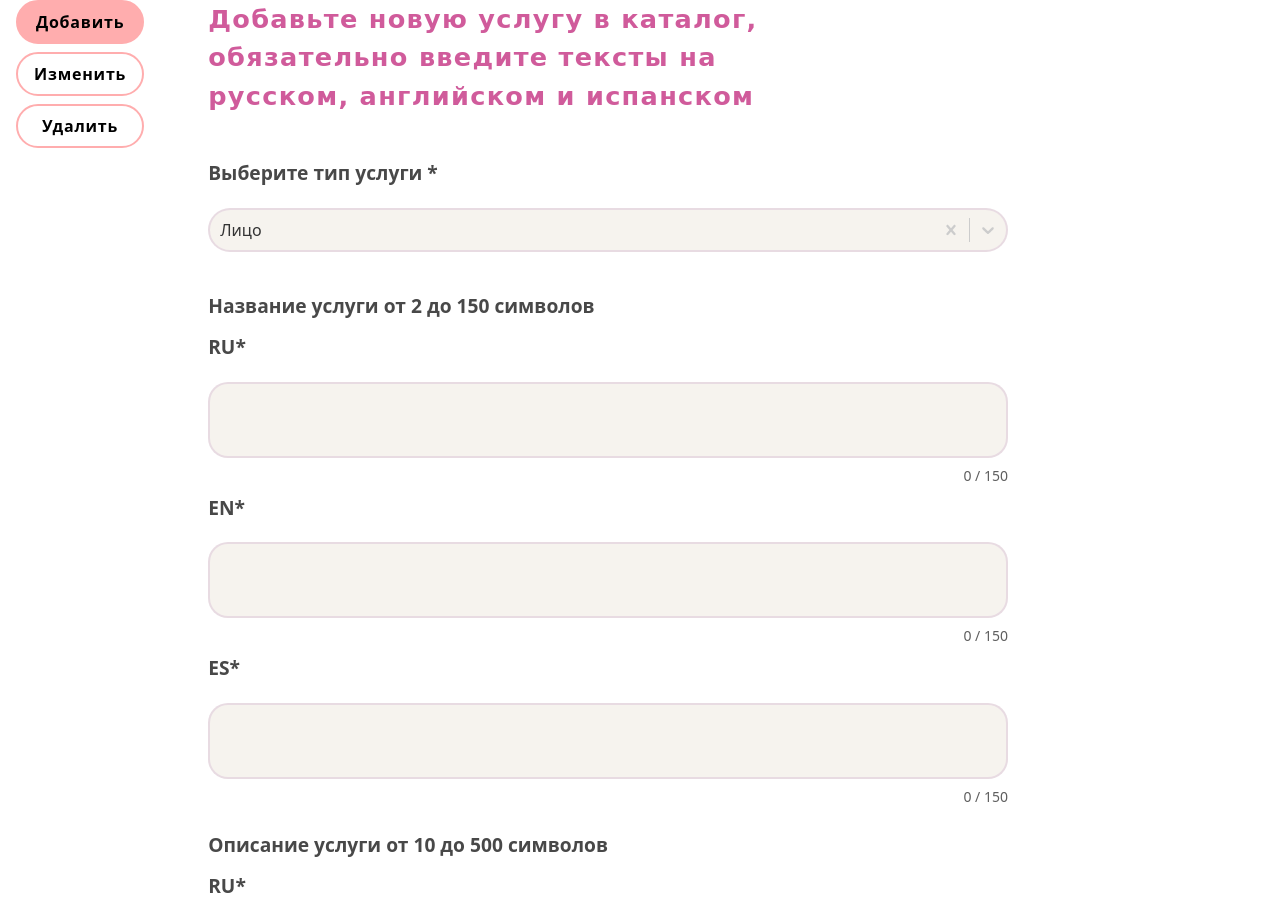
it: DashboardPanel — delete-service flow › does not delete right away — it opens a confirmation dialog first
What coordinates should you click on to do the following:
click the button "Удалить"
I would click on:
 (80, 126)
Its box is [16,104,144,148].
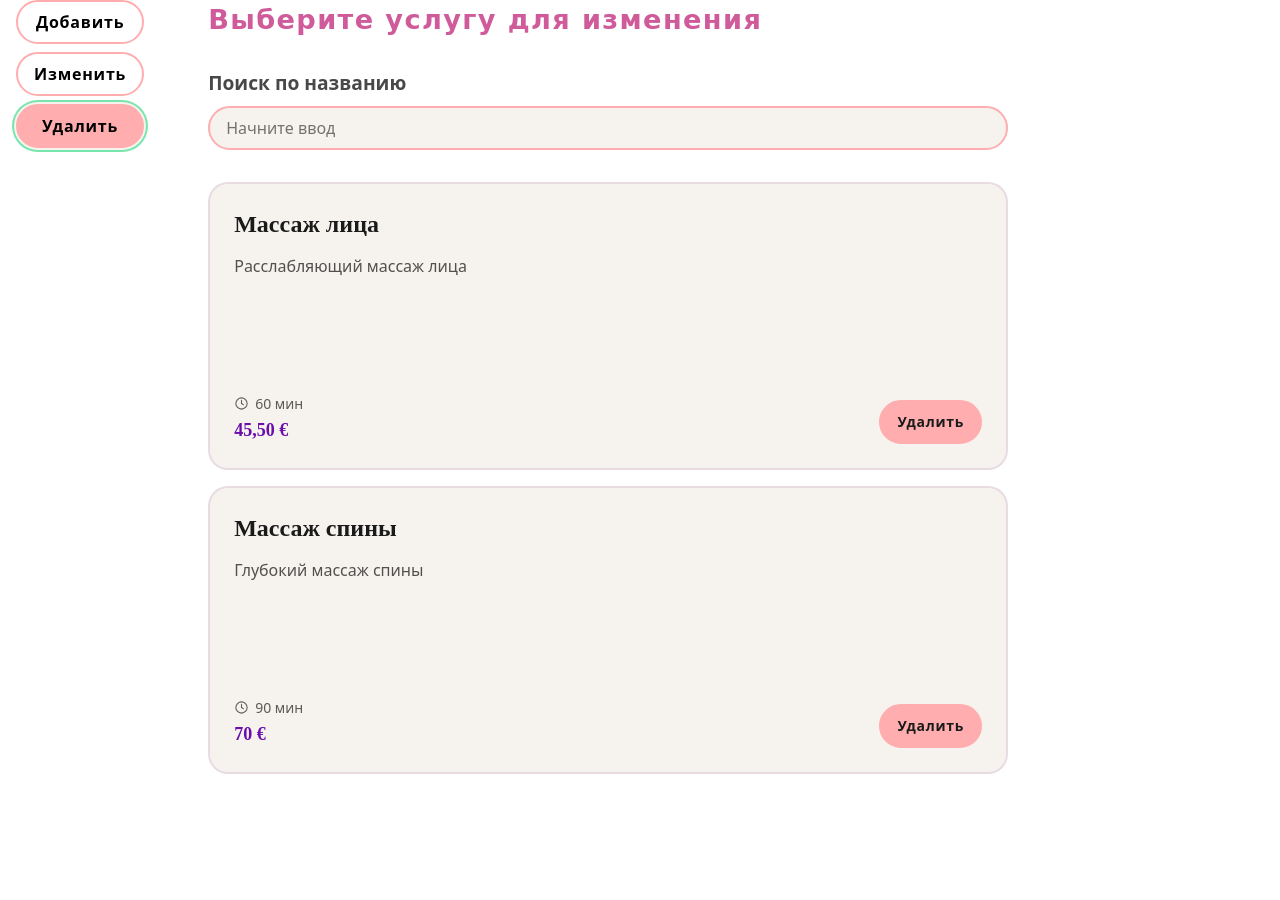
What coordinates should you click on to do the following:
click the button with aria-label "Удалить: Массаж лица"
I would click on:
 (931, 422)
Its box is [880,400,982,444].
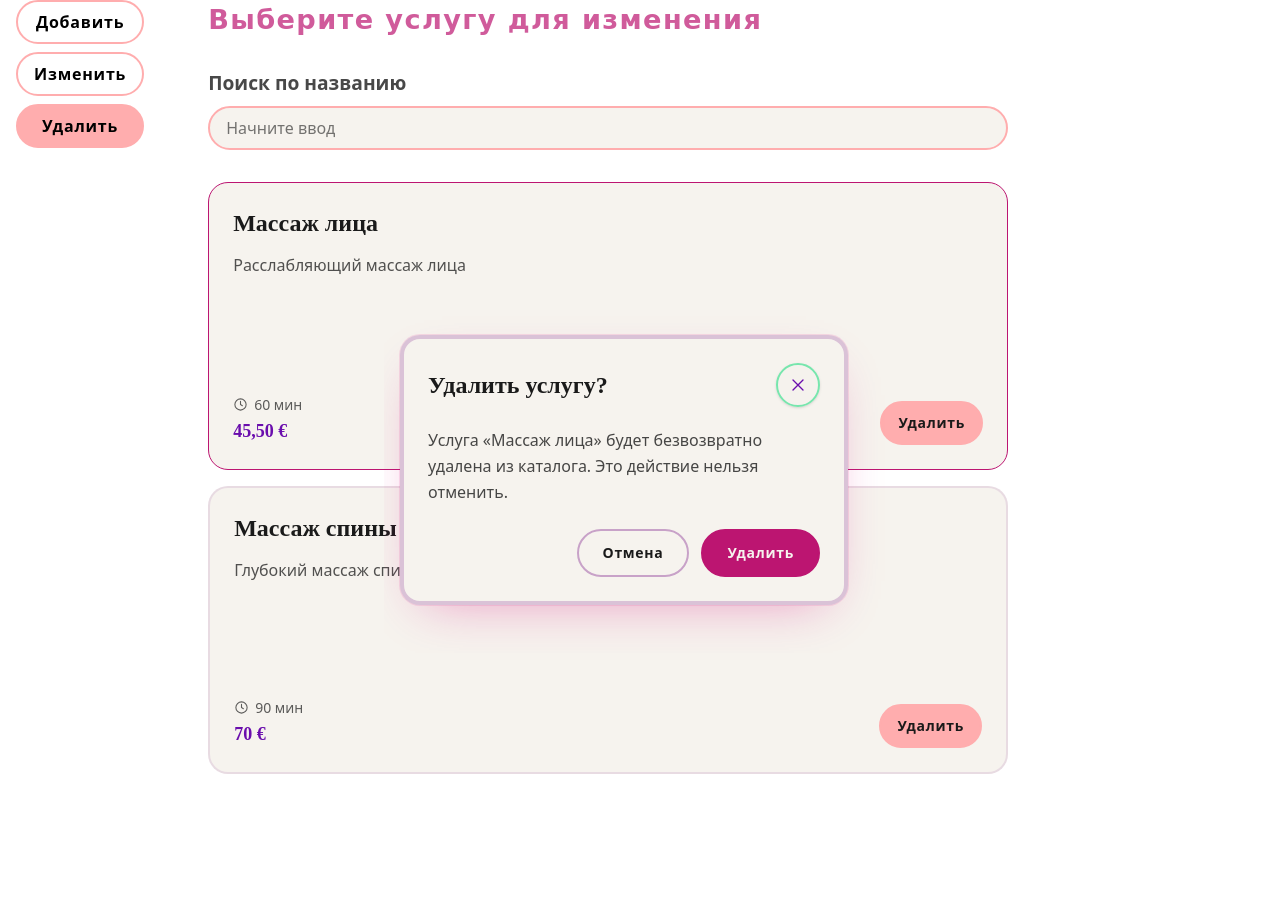
Expected: the element with test id "delete-confirm-dialog" is shown, [428,427,820,577]
